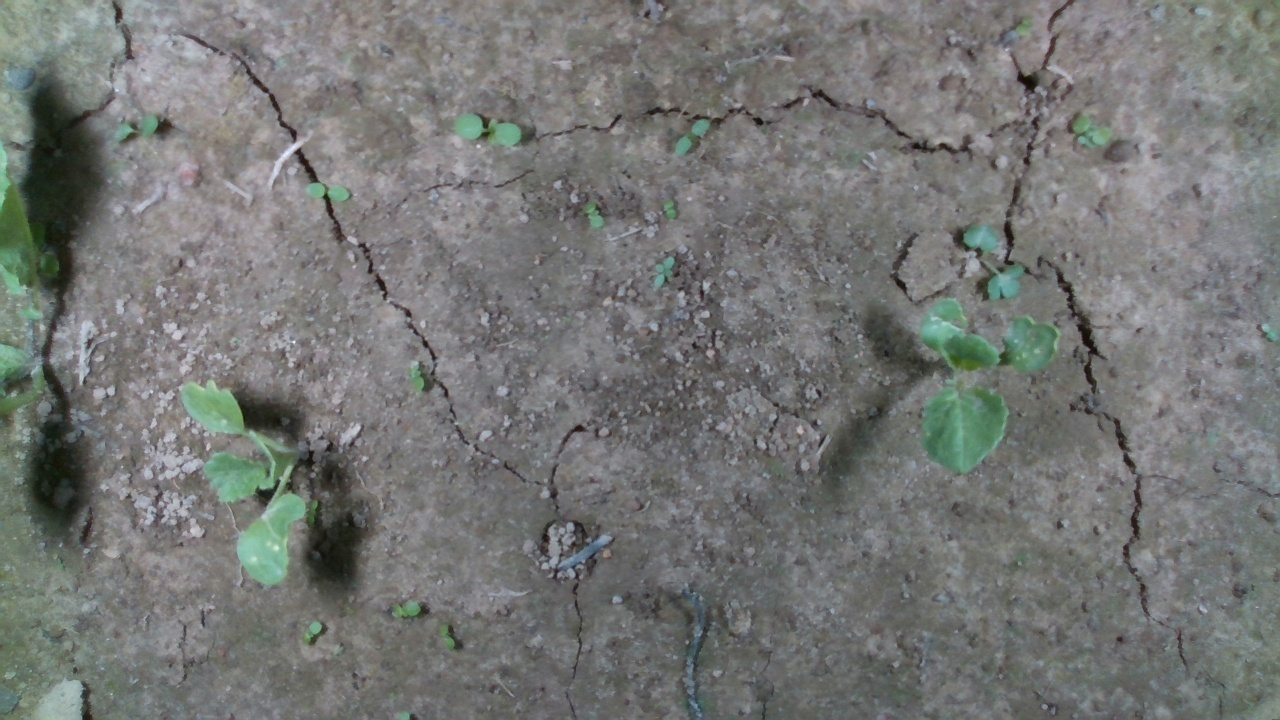weed: (960, 218, 1026, 301), (454, 111, 524, 146), (672, 116, 712, 159), (113, 114, 160, 142), (304, 180, 351, 204), (652, 255, 676, 290), (388, 597, 422, 620), (299, 619, 324, 647), (582, 200, 604, 230), (406, 361, 424, 395), (1011, 13, 1034, 38), (438, 621, 456, 651), (661, 198, 677, 221)
